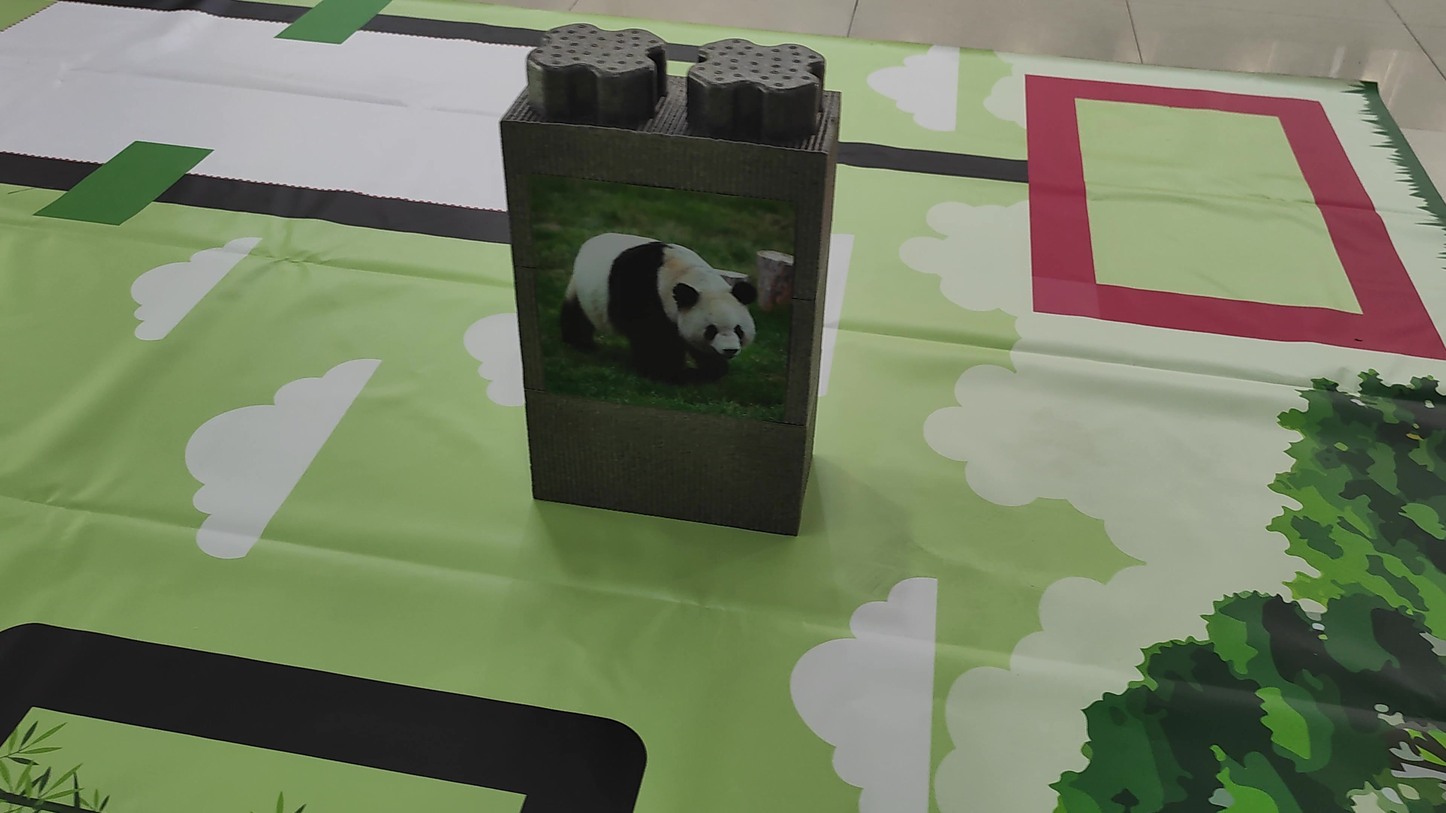panda: (540, 217, 782, 394)
